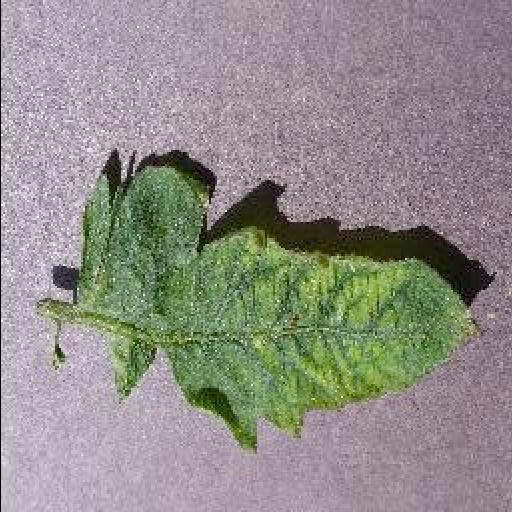Mosaic Virus: (68, 166, 484, 458)
